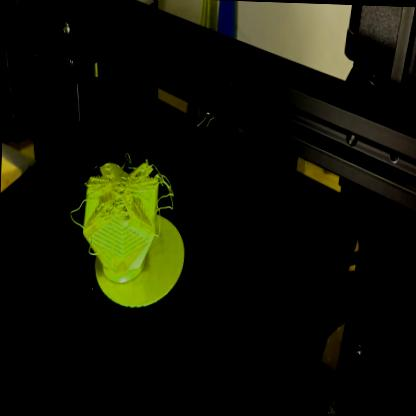fail: (67, 147, 177, 243)
